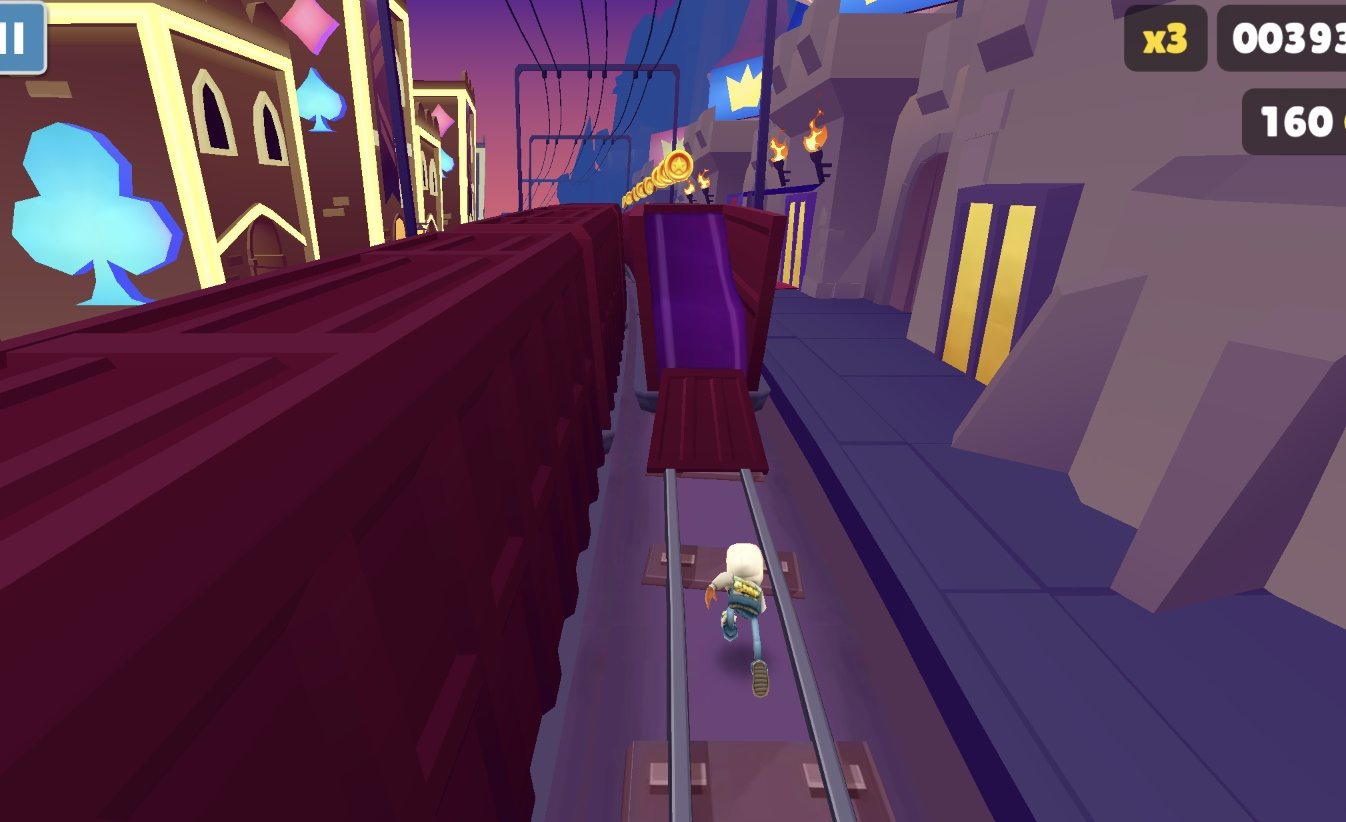train: (0, 203, 625, 822), (622, 202, 788, 476)
